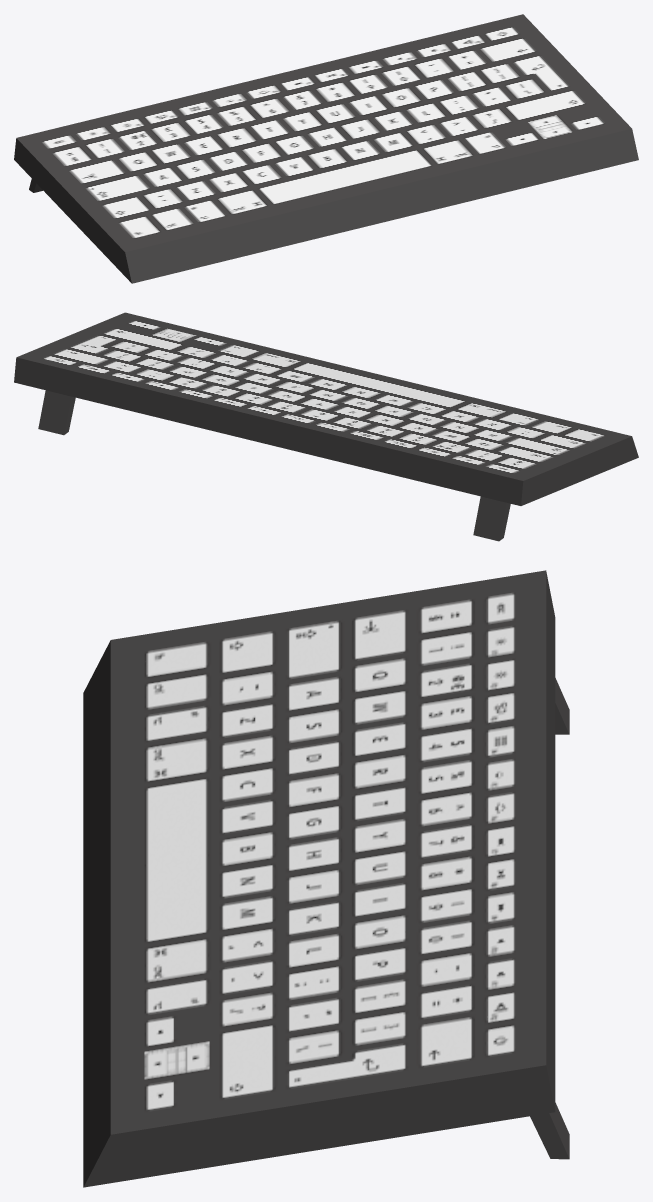
Rendered from keyboard.fbx.
3 renders of one model, top to bottom at view 1: azimuth 30°, elevation 25°; view 2: azimuth 150°, elevation 25°; view 3: azimuth 270°, elevation 25°, orthographic. The views are drawn at different scales.
Visible parts, largest first — view 1: Cube; view 2: Cube, Cube.002, Cube.001; view 3: Cube, Cube.001.
Boxes of the visible parts, box(x1,y1,x2,y2) form: Cube: box(14, 14, 638, 283); Cube: box(14, 312, 638, 505); Cube.002: box(473, 496, 510, 541); Cube.001: box(38, 390, 75, 435); Cube: box(83, 570, 555, 1187); Cube.001: box(530, 1102, 569, 1159).
Bounding box in the file's own units: 530 × 61.07 × 220.
Materials: 3 (3 with a texture image).
